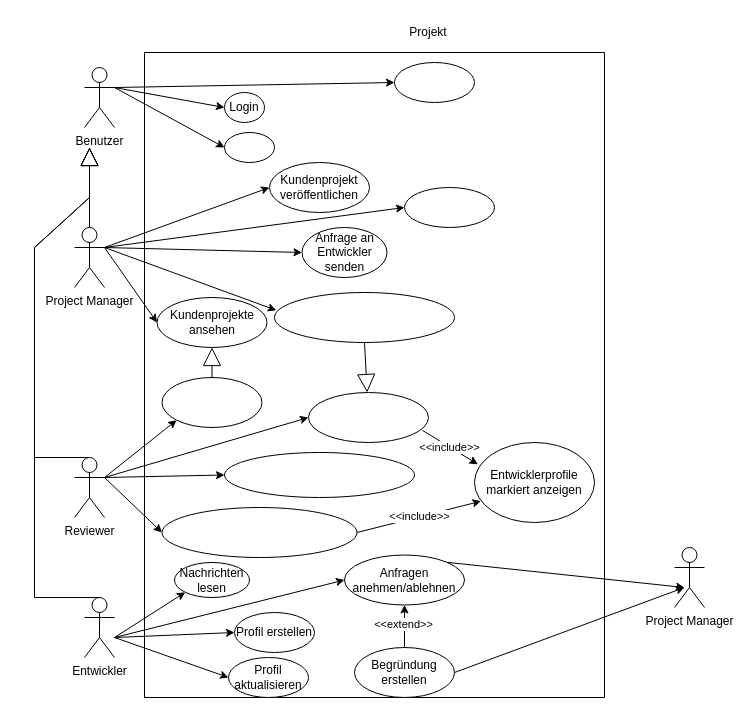
This 751x715 diagram has some shape labels left out. Each missing label, with the box of its shape:
Einem Kundenprojekt zugewiesene Entwicklerprofile ansehen: (274, 292, 454, 342)
Entwickler einem Kundenprojekt zuweisen: (161, 506, 357, 558)
Entwicklerprofile ansehen: (308, 392, 428, 442)
Kundenprojekt verfassen: (404, 186, 494, 228)
Logout: (224, 132, 274, 162)
Nach Entwicklerprofilen mit spezifischen Skills suchen: (224, 452, 414, 498)
Registrierung: (394, 62, 474, 102)
veröffentlichte Kundenprojekte einsehen: (161, 376, 262, 428)
